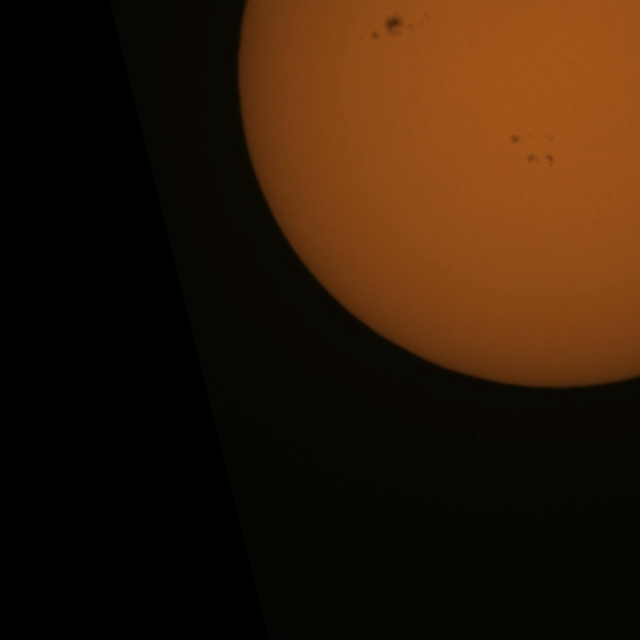sunspot: (510, 131, 558, 156), (374, 13, 414, 40), (524, 151, 556, 168), (509, 132, 522, 146), (543, 131, 555, 143)
